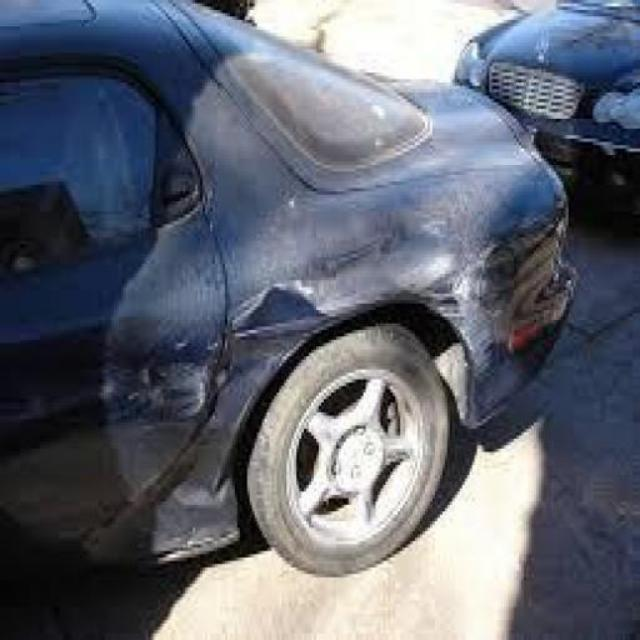dent: (229, 175, 504, 375), (92, 348, 285, 556), (140, 359, 221, 425)
